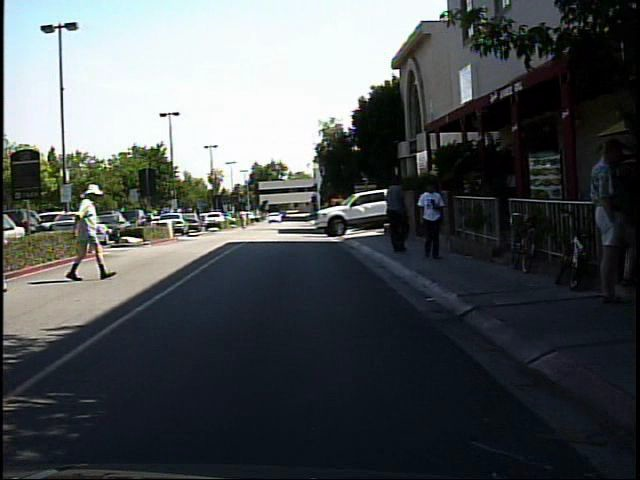person: (587, 132, 639, 306), (67, 182, 117, 282), (378, 172, 415, 257), (416, 177, 450, 264), (142, 202, 159, 240), (236, 204, 252, 229)
